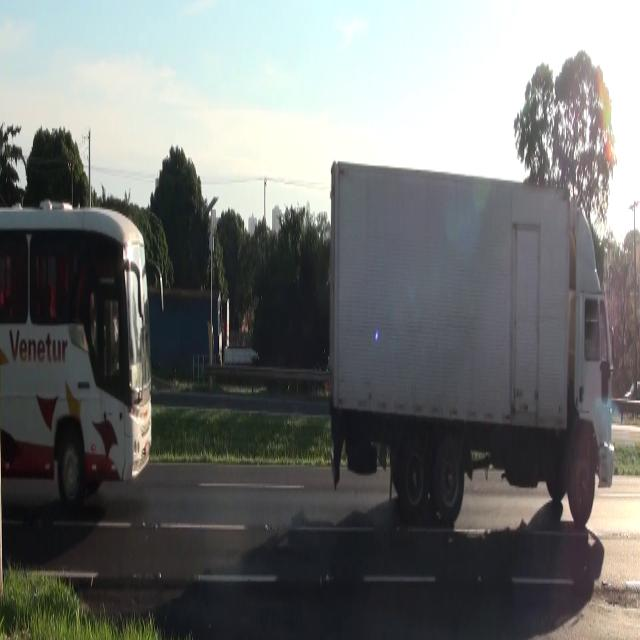-axle: (398, 432, 430, 516), (436, 432, 465, 518), (570, 436, 595, 527), (58, 429, 84, 502)
